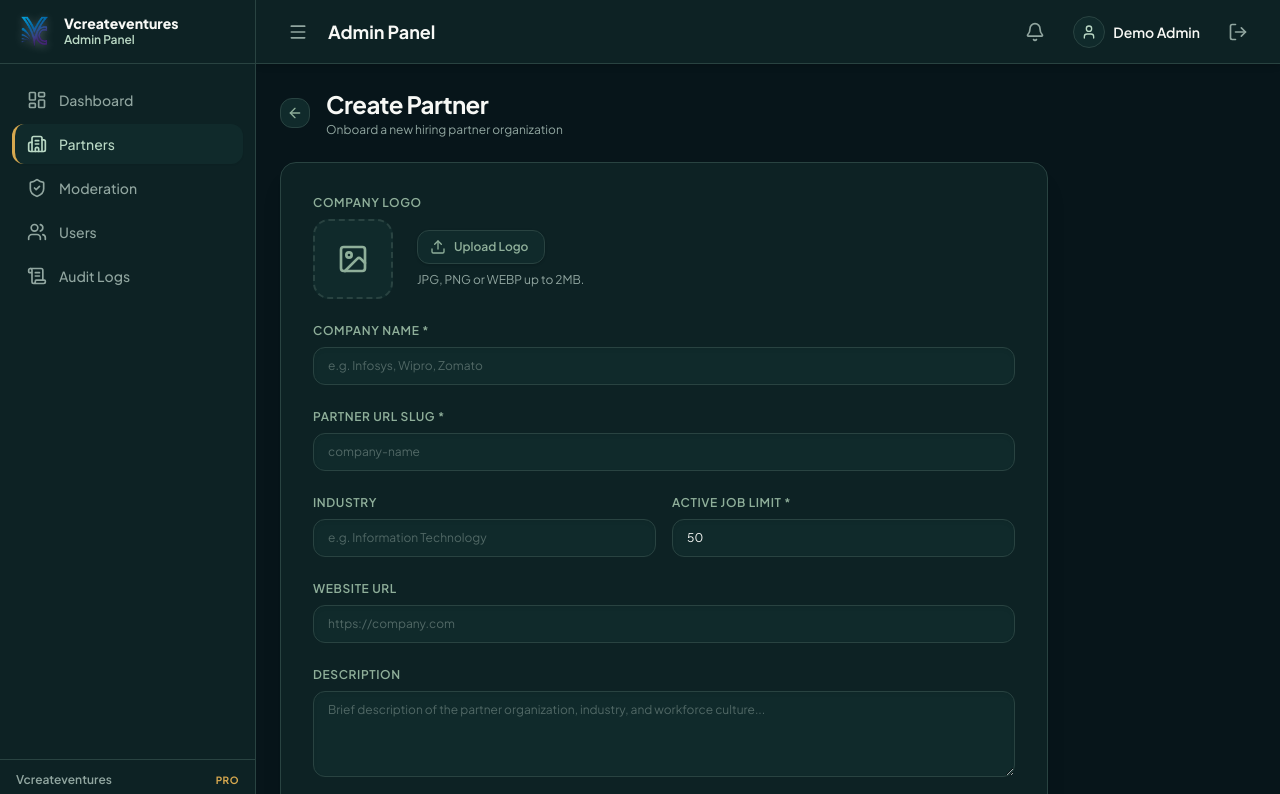
routes rendering test › shows backend validation details when a partner slug is already taken
Type "Existing Partner" into the field labelled "Company Name *".
click(664, 366); type("Existing Partner")  # box [313, 347, 1015, 385]
(page scrolled)
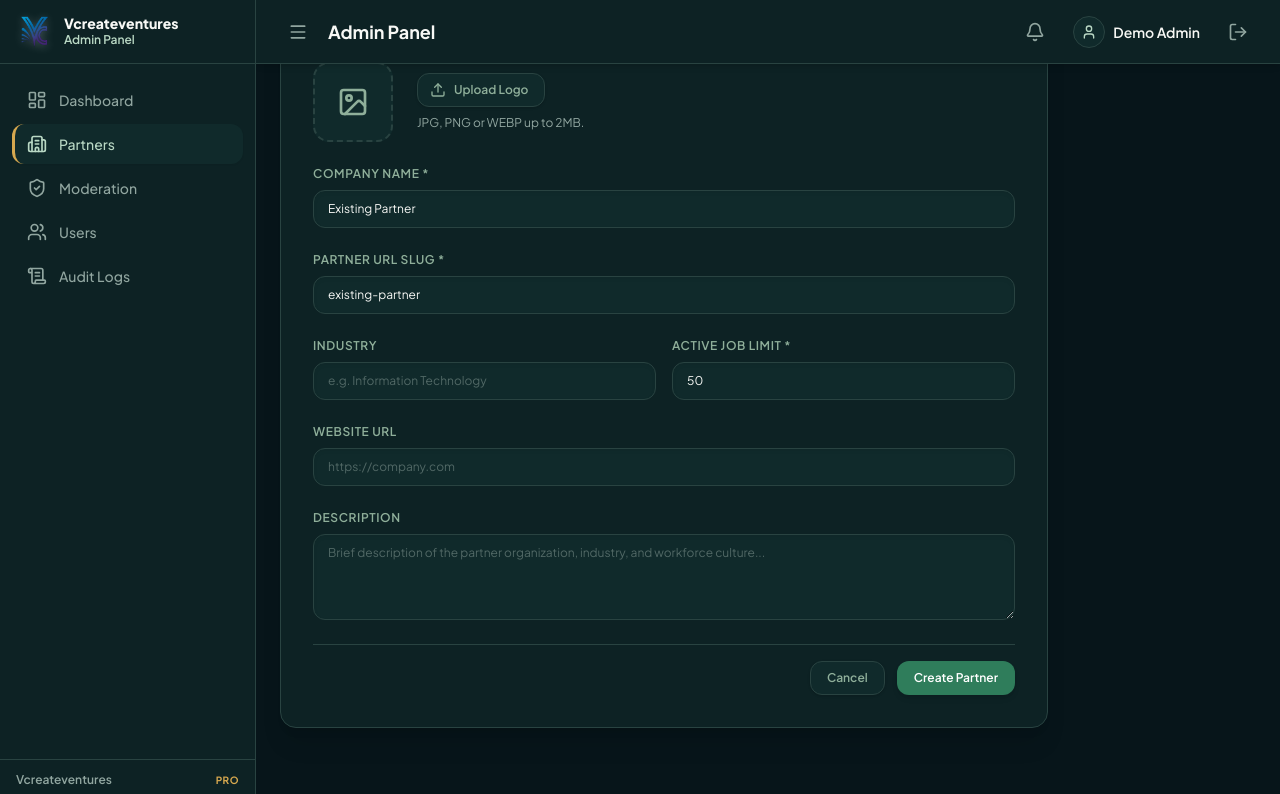
Click the button "Create Partner".
click(956, 678)  # box [897, 661, 1015, 695]
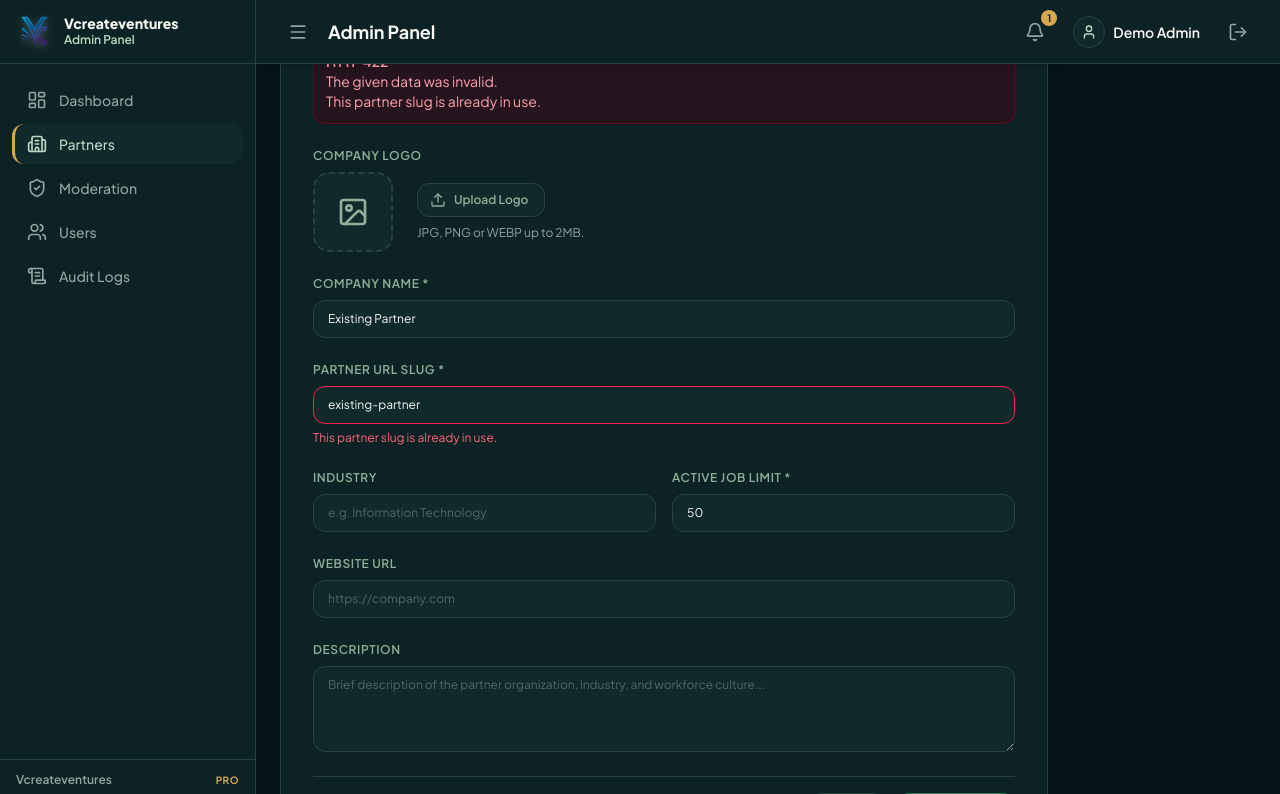
Result: the message shows "HTTP 422" at [326, 52, 388, 70]
Result: the message shows "This partner slug is already in use." at [326, 92, 541, 110]
Result: the text "This partner slug is already in use." is shown 2 times at [326, 92, 541, 110]; [313, 430, 497, 445]
